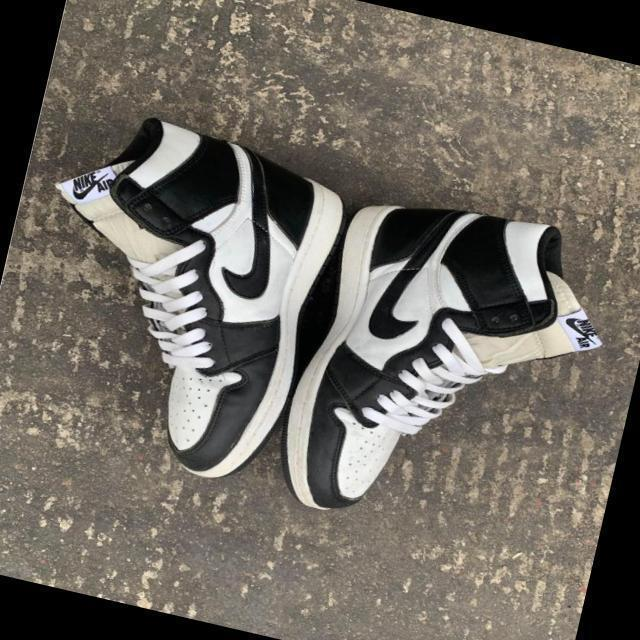nike fake jordan 1: (0, 95, 361, 498), (264, 170, 622, 566)
